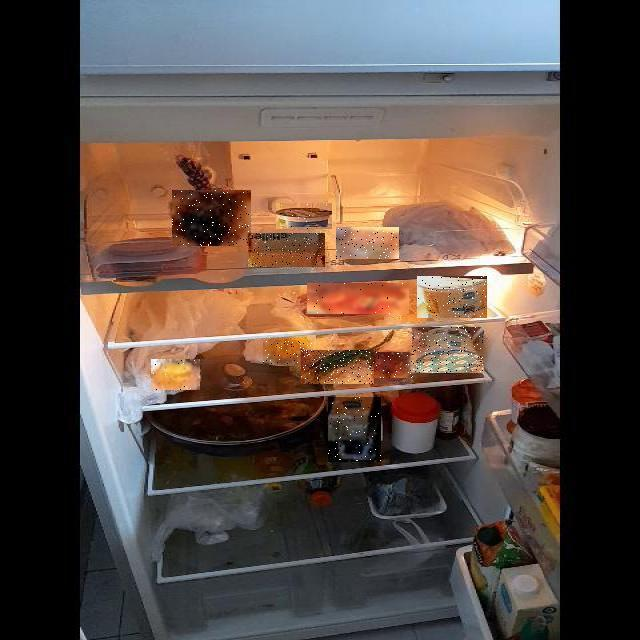carrot: (102, 157, 512, 471)
cheese: (86, 134, 410, 400)
milk: (137, 231, 518, 640)
